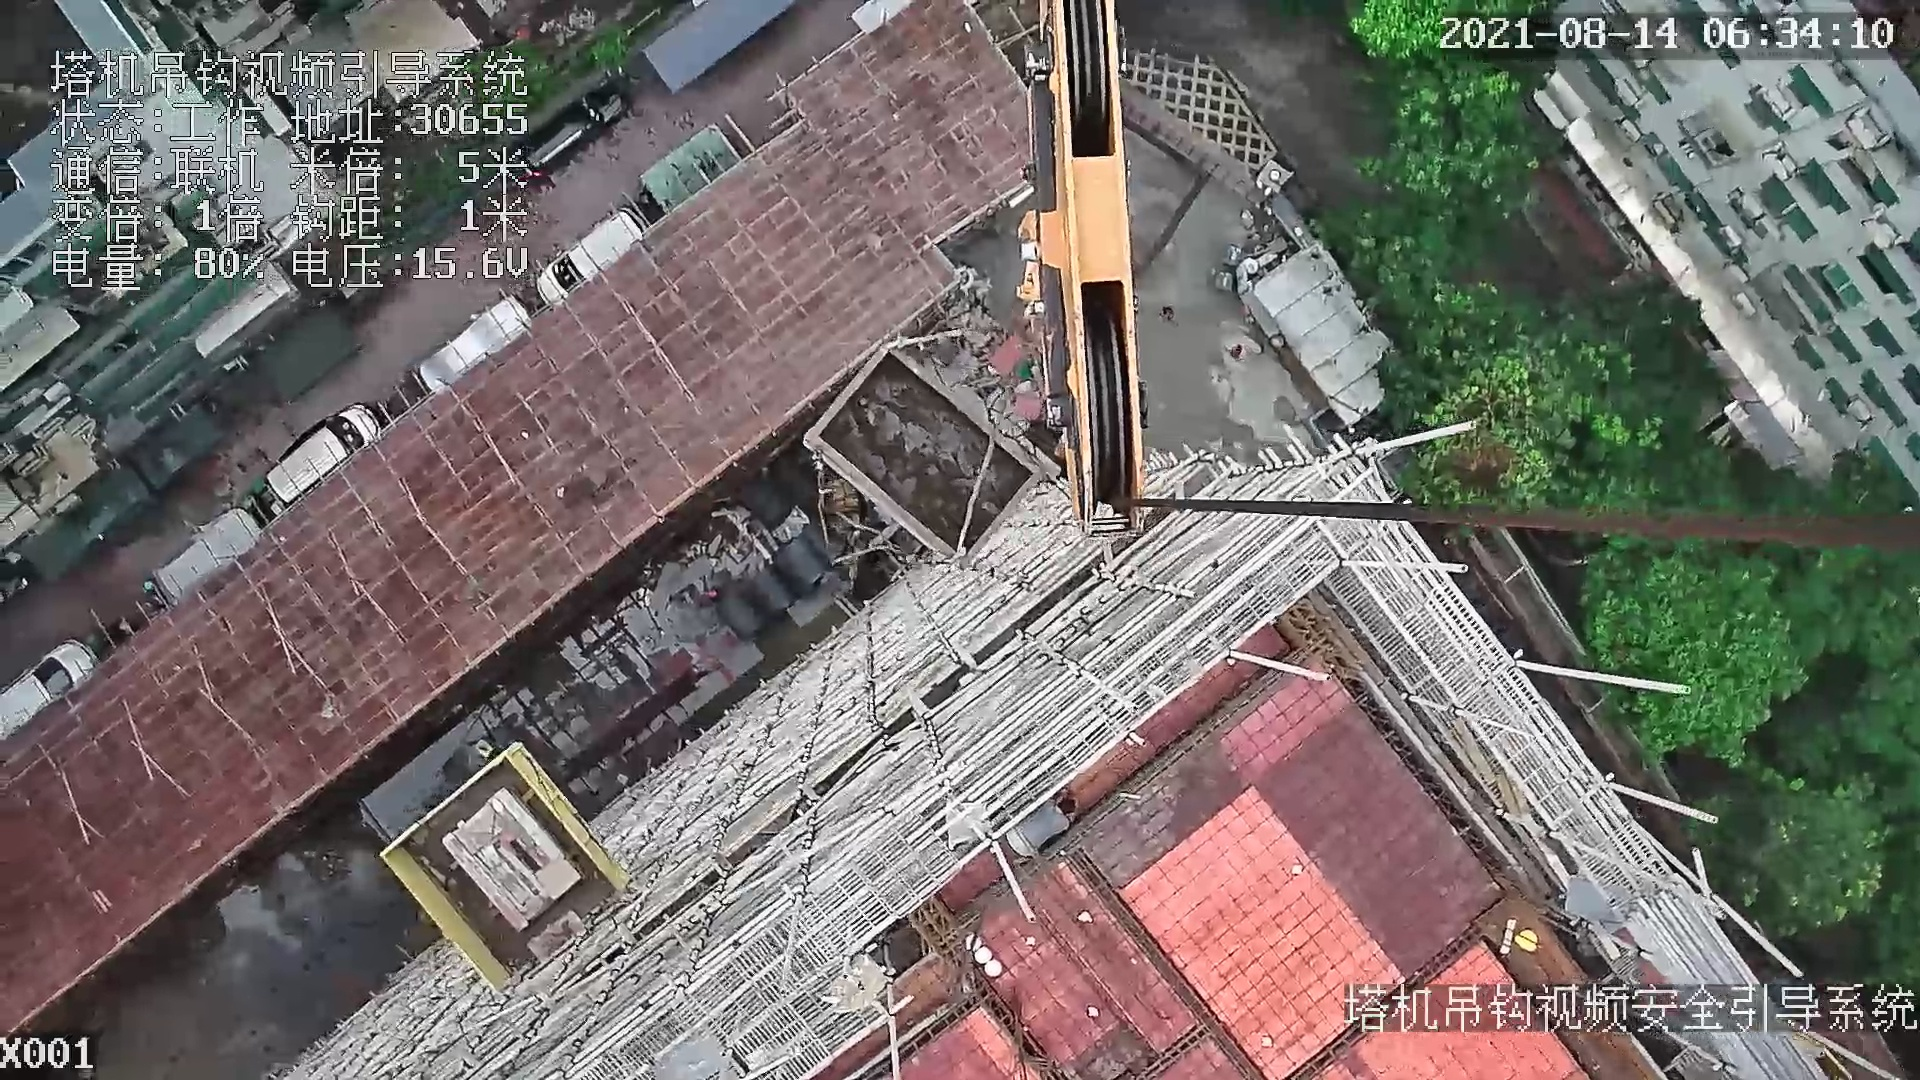helmet: (1515, 927, 1542, 957)
hook: (1014, 6, 1150, 533)
hopper: (797, 332, 1058, 581)
person: (996, 789, 1087, 881)
